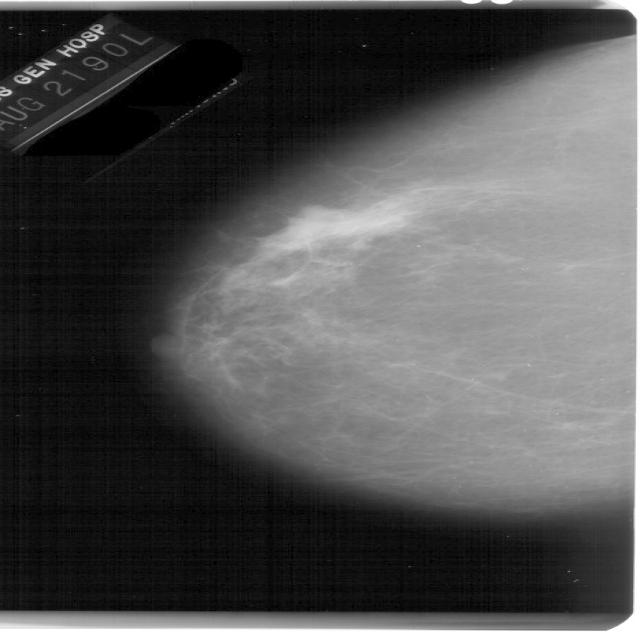tumour: (263, 199, 417, 250)
